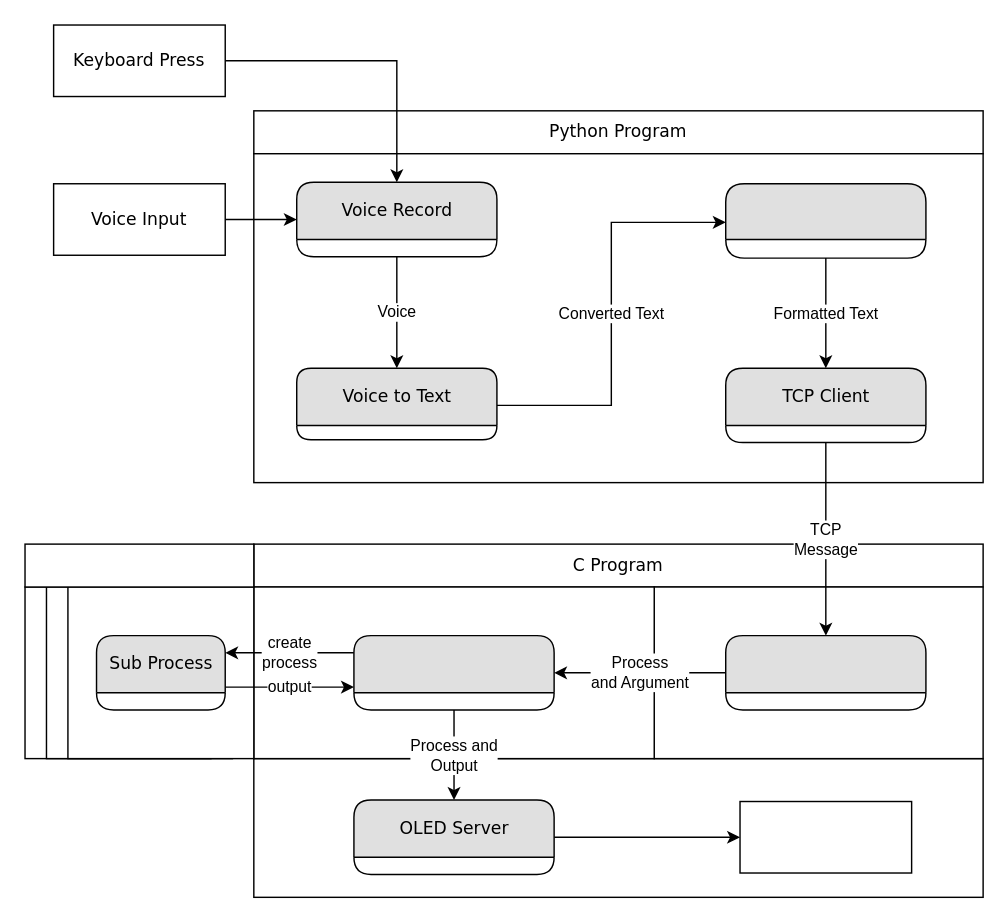
Some shapes in this 1008 by 922 pixel diagram are drawn without their labels. Each missing label, with the box of its shape:
OLED Display: (739, 800, 912, 873)
Process per Command: (24, 543, 254, 587)
Process Utility: (352, 634, 554, 710)
TCP Server: (724, 634, 926, 710)
Text Processor: (724, 182, 926, 258)
